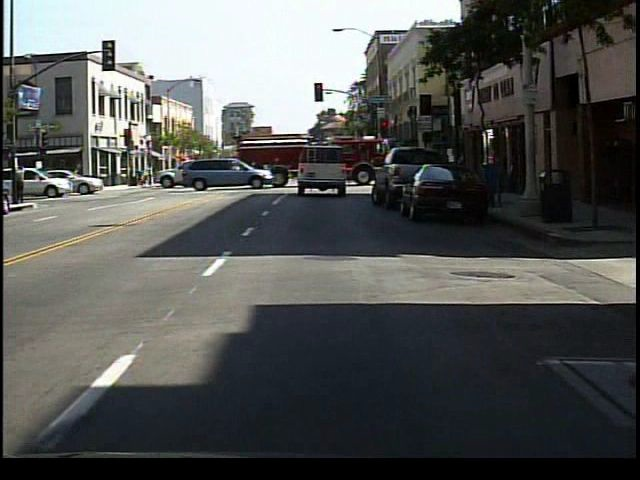person: (17, 163, 30, 207)
